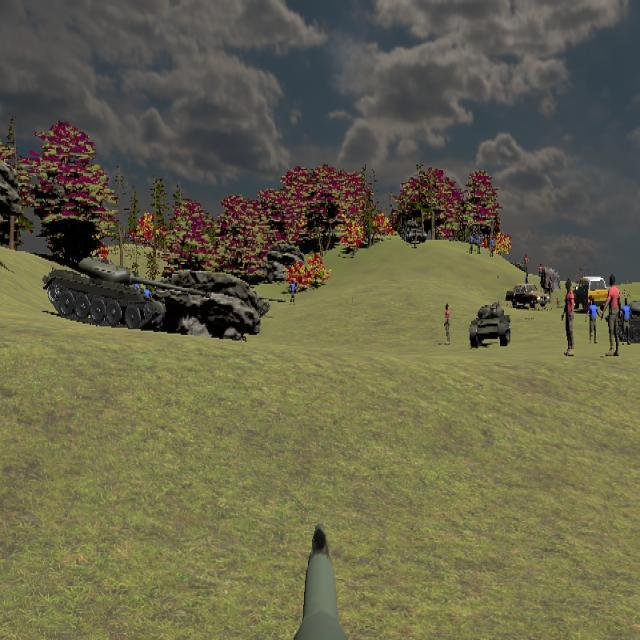Human: (602, 274, 622, 356), (561, 281, 575, 356), (585, 297, 602, 346), (618, 296, 634, 347)
Tank: (43, 256, 204, 332), (469, 301, 511, 349), (401, 218, 427, 244)
car: (574, 275, 611, 313), (505, 283, 549, 310)
